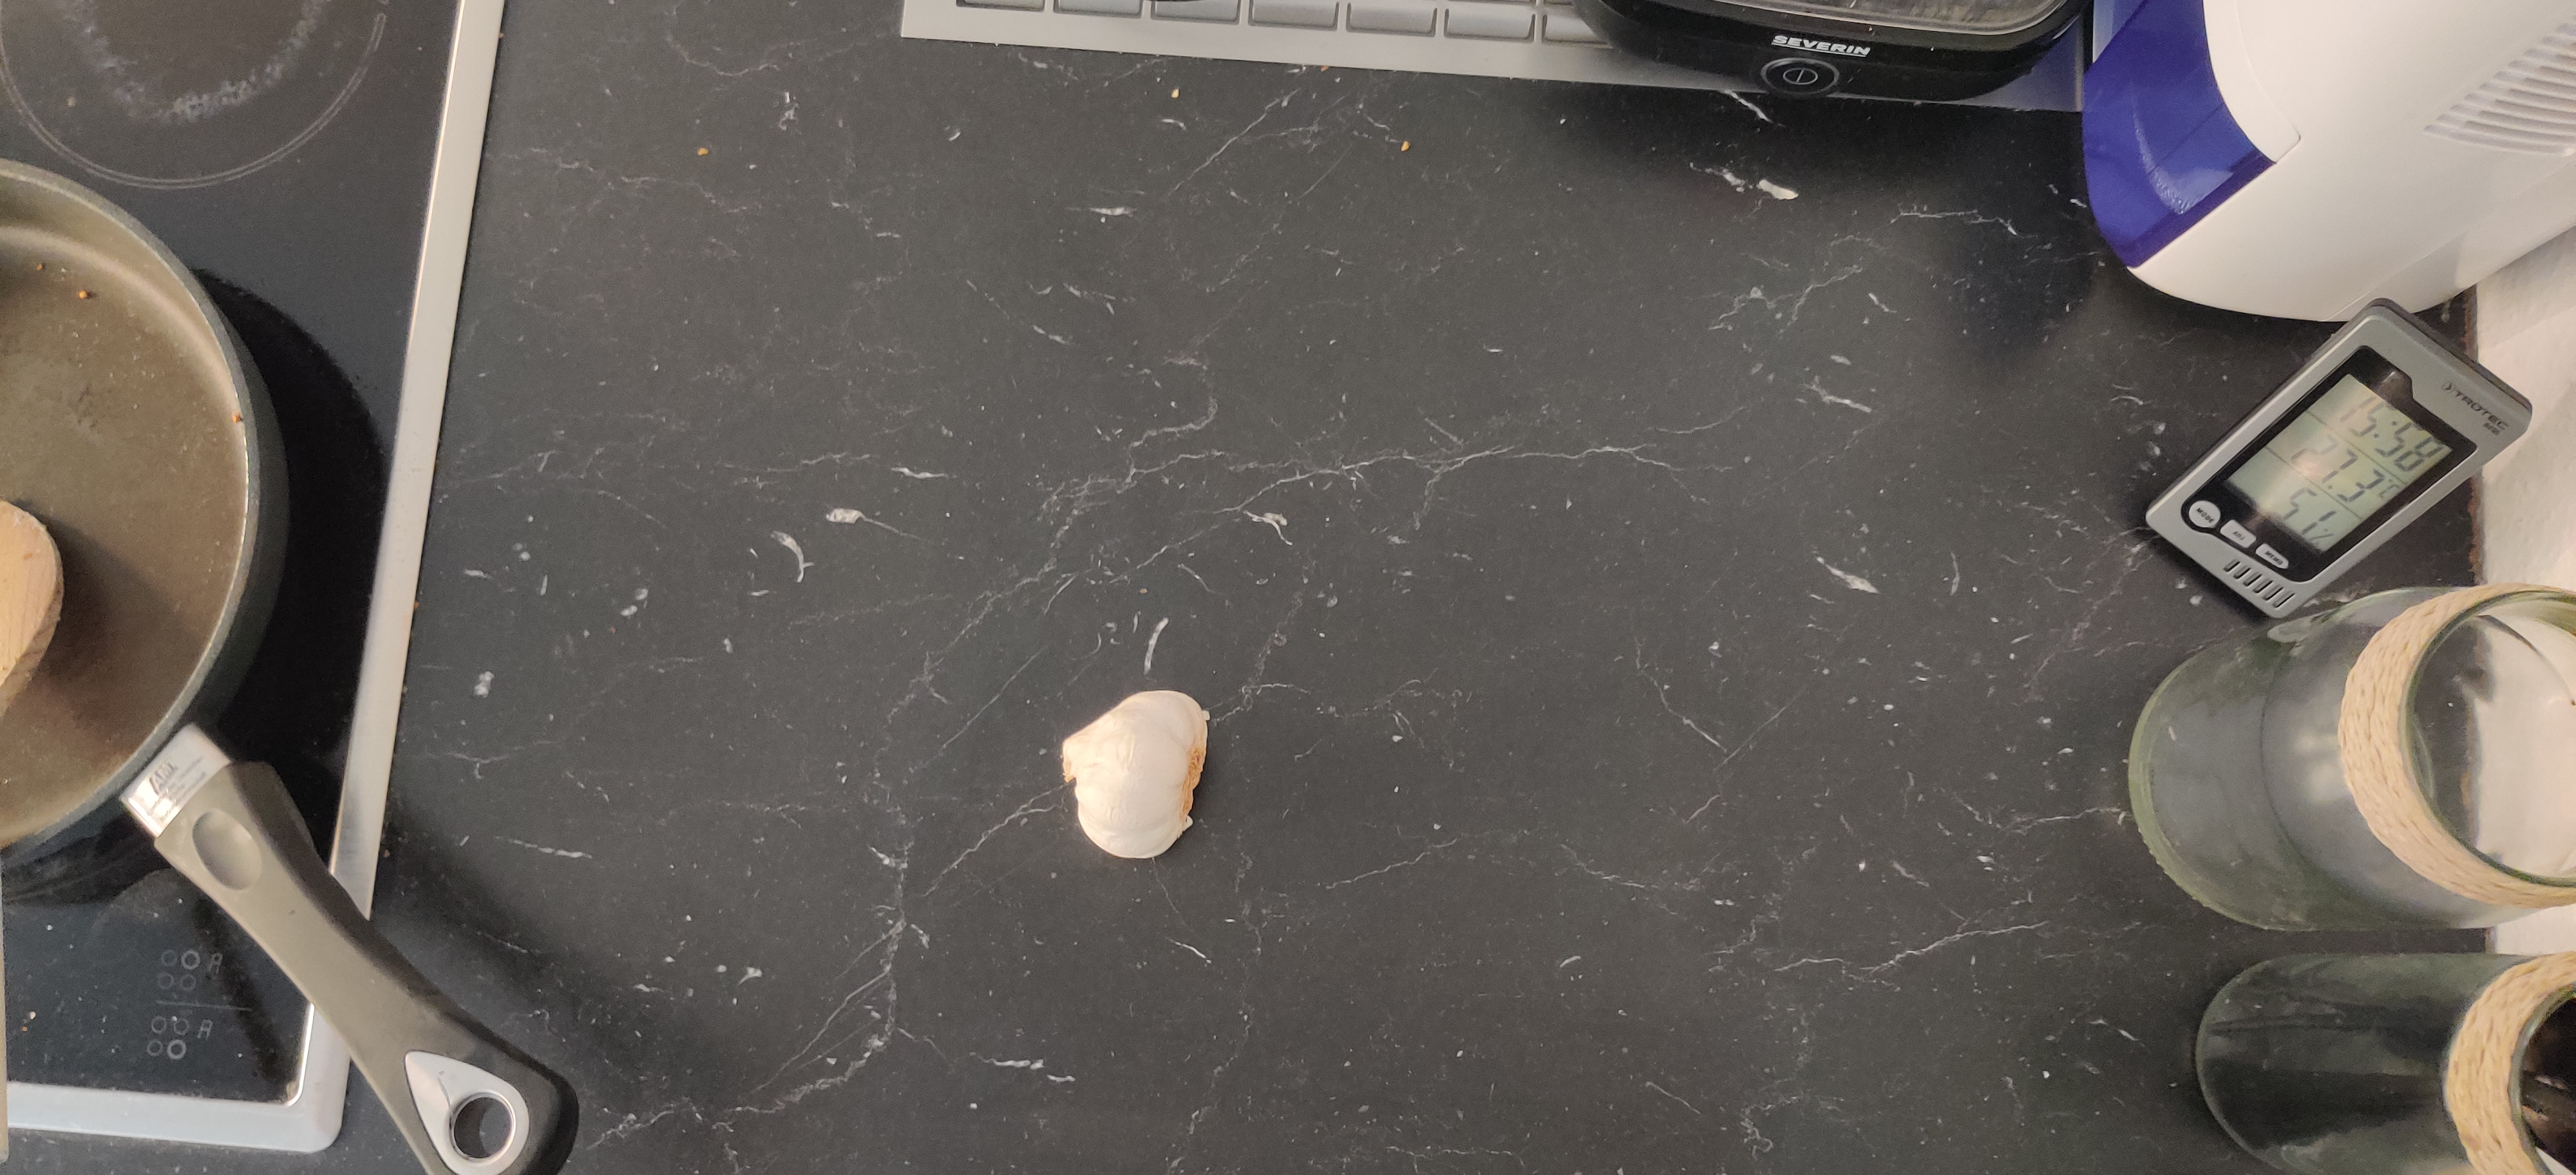Knoblauch: (1060, 689, 1211, 861)
